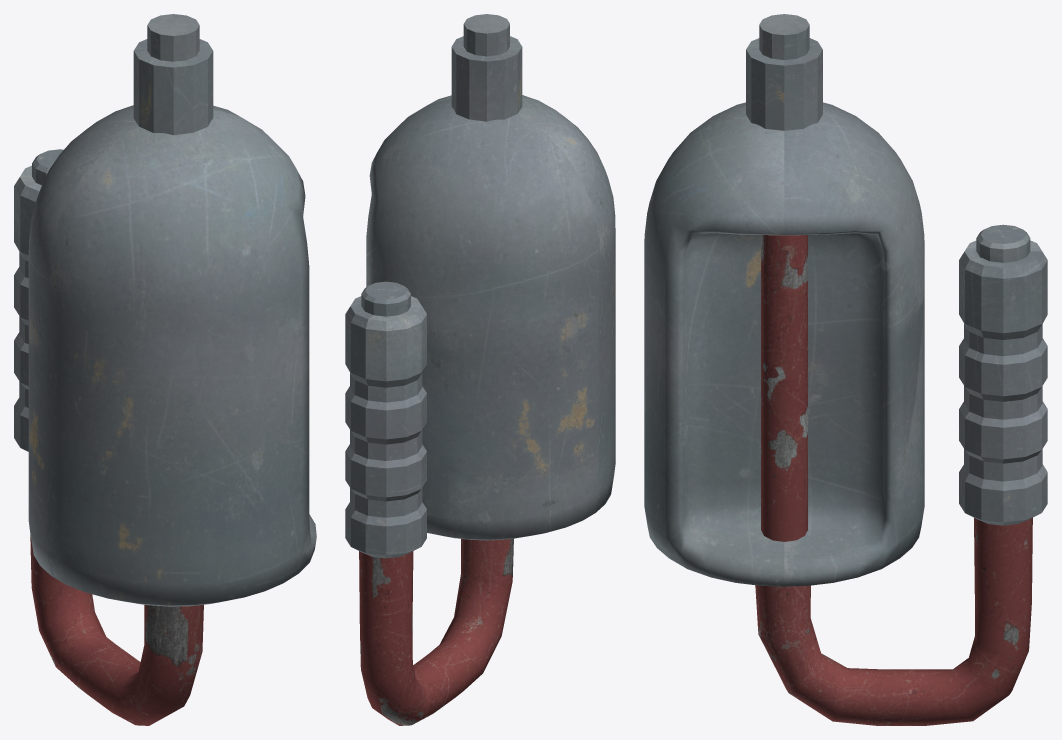
The model's file is ShipsEngineDebris3.fbx.
3 views of the same model, side by side, from view 1: azimuth 30°, elevation 25°; view 2: azimuth 150°, elevation 25°; view 3: azimuth 270°, elevation 25° (orthographic). The views are drawn at different scales.
Parts seen in each view (by area): view 1: Roundcube.002; view 2: Roundcube.002; view 3: Roundcube.002.
Boxes of the visible parts, bbox=[...] form: Roundcube.002: bbox=[14, 14, 316, 725]; Roundcube.002: bbox=[345, 14, 615, 725]; Roundcube.002: bbox=[644, 14, 1047, 725].
Size of the model in its own units: 46.78 by 129 by 67.68.
